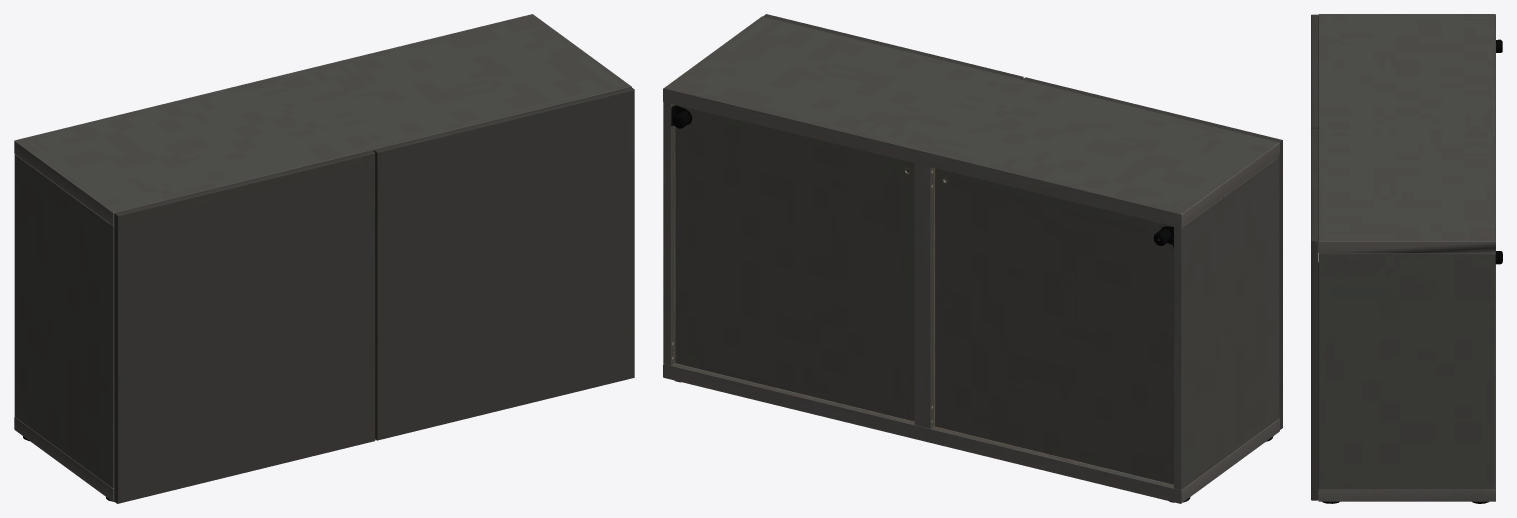
Rendered from 27 - BESTÅ Shelf unit with doors - dark greyLappviken dark grey 120x42x64 cm.glb.
3 views of the same model, side by side, from view 1: azimuth 30°, elevation 25°; view 2: azimuth 150°, elevation 25°; view 3: azimuth 270°, elevation 25° (orthographic). The views are drawn at different scales.
Size of the model in its own units: 1.2 by 0.648 by 0.427.
1 material, 1 textured.
